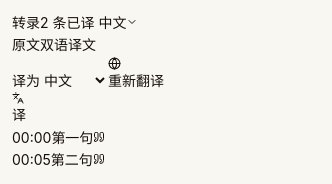
Test: LNTranscriptPanel 字幕编辑（原文/译文） › 双语模式：双击译文 span 进入译文编辑（预填译文），双击行进入原文编辑
Click the button "双语". click: x=54, y=46
box: [40,34,68,57]
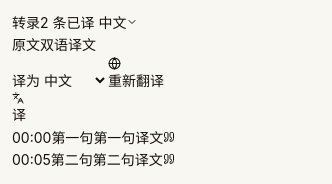
// 双击译文 span → 预填译文
Double-click the text "第一句译文" at x=128, y=137, box [93,129,163,146]
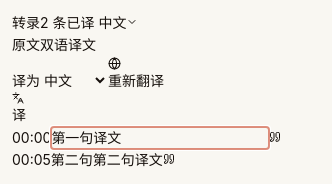
Now the field showing "第一句译文" is shown
Press Escape in the field showing "第一句译文", box [51,127,269,149]
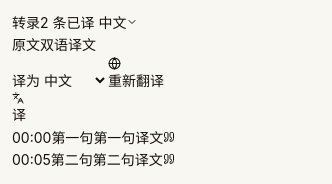
// 双击行 → 预填原文
Double-click the text "第一句" at x=94, y=137, box [12,129,175,146]
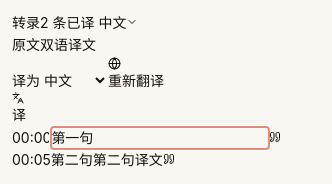
Now the field showing "第一句" is shown, box [51,127,269,149]
